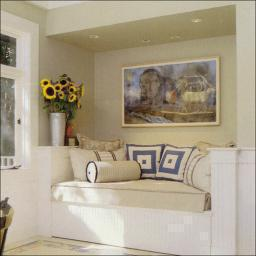Ventana: (2, 26, 32, 180)
